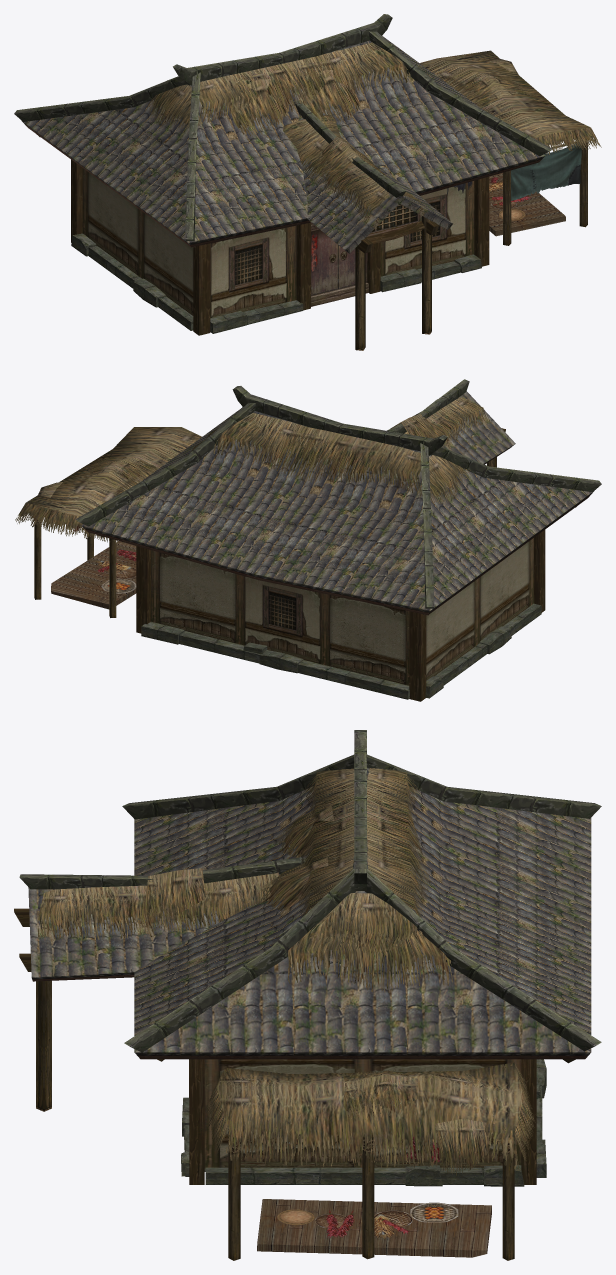
The model's file is minju_yc_29.fbx.
3 renders of one model, top to bottom at view 1: azimuth 30°, elevation 25°; view 2: azimuth 150°, elevation 25°; view 3: azimuth 270°, elevation 25°, orthographic. The views are drawn at different scales.
Parts seen in each view (by area): view 1: minju_yc_29; view 2: minju_yc_29; view 3: minju_yc_29.
Part boxes in pixels (<box>): minju_yc_29: <box>14,14,601,350</box>; minju_yc_29: <box>15,379,601,701</box>; minju_yc_29: <box>14,730,601,1260</box>.
Size of what is drawn, in the model's own units: 1508 by 676 by 1241.
